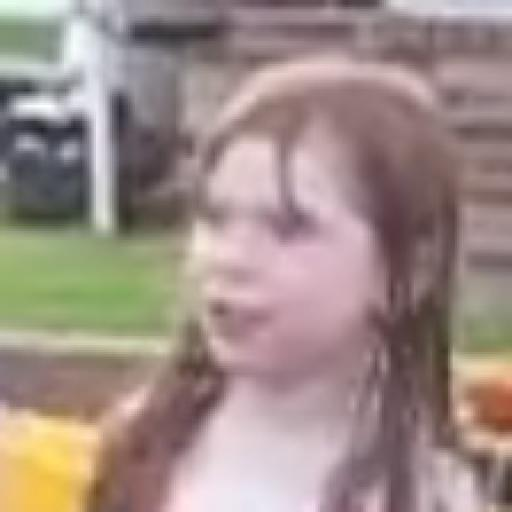Autism: (180, 47, 480, 438)
